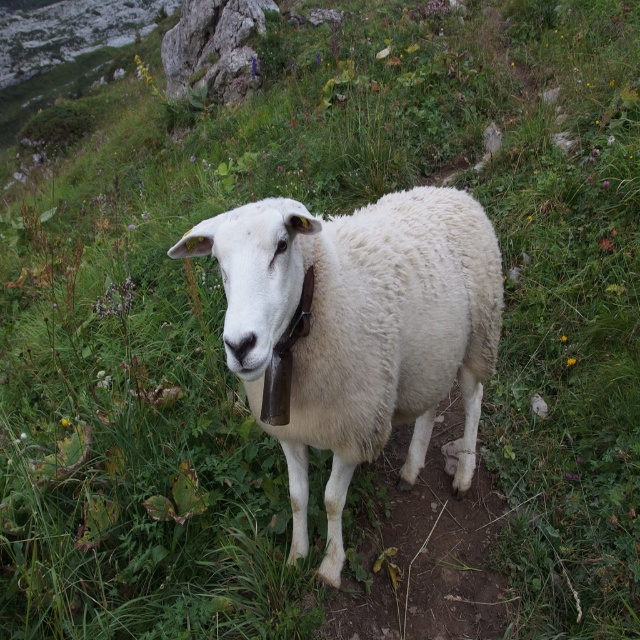Sheep: (166, 183, 510, 595)
